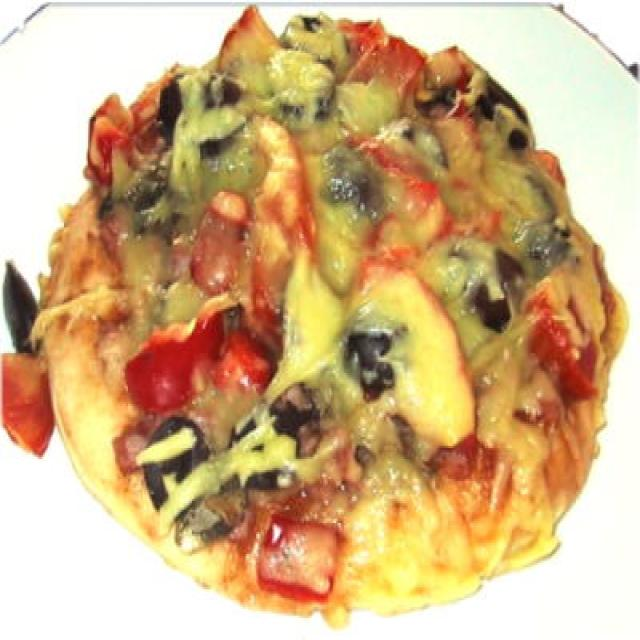汉堡快餐: (52, 9, 618, 596)
